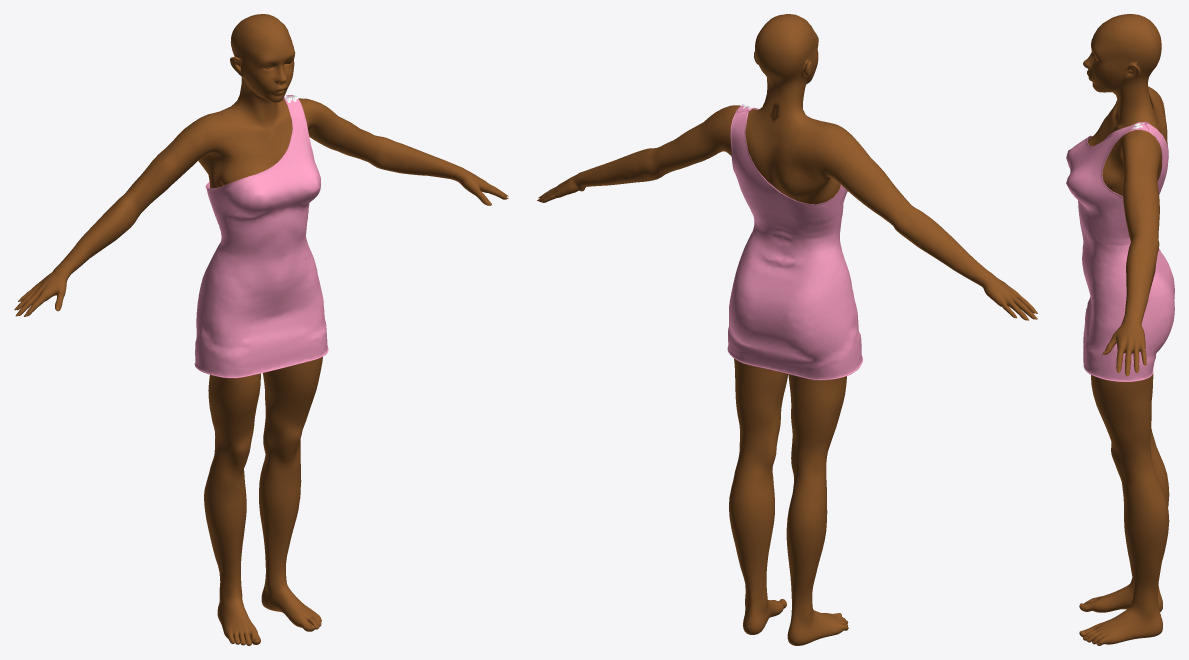
File: dress1.glb
3 renders of one model, left to right at view 1: azimuth 30°, elevation 25°; view 2: azimuth 150°, elevation 25°; view 3: azimuth 270°, elevation 25°, orthographic.
Parts seen in each view (by area): view 1: Body, WhiteDress; view 2: Body, WhiteDress; view 3: Body, WhiteDress.
Part boxes in pixels (bbox=[...]): Body: bbox=[17, 14, 507, 645]; WhiteDress: bbox=[194, 95, 328, 378]; Body: bbox=[538, 14, 1035, 645]; WhiteDress: bbox=[727, 104, 862, 380]; Body: bbox=[1079, 14, 1169, 645]; WhiteDress: bbox=[1066, 122, 1174, 381].
Bounding box in the file's own units: 1.58 × 1.85 × 0.3.
